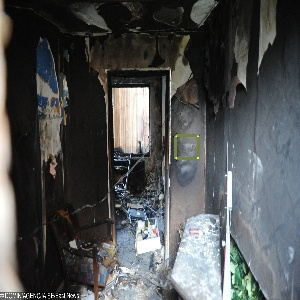square: (171, 133, 201, 160)
